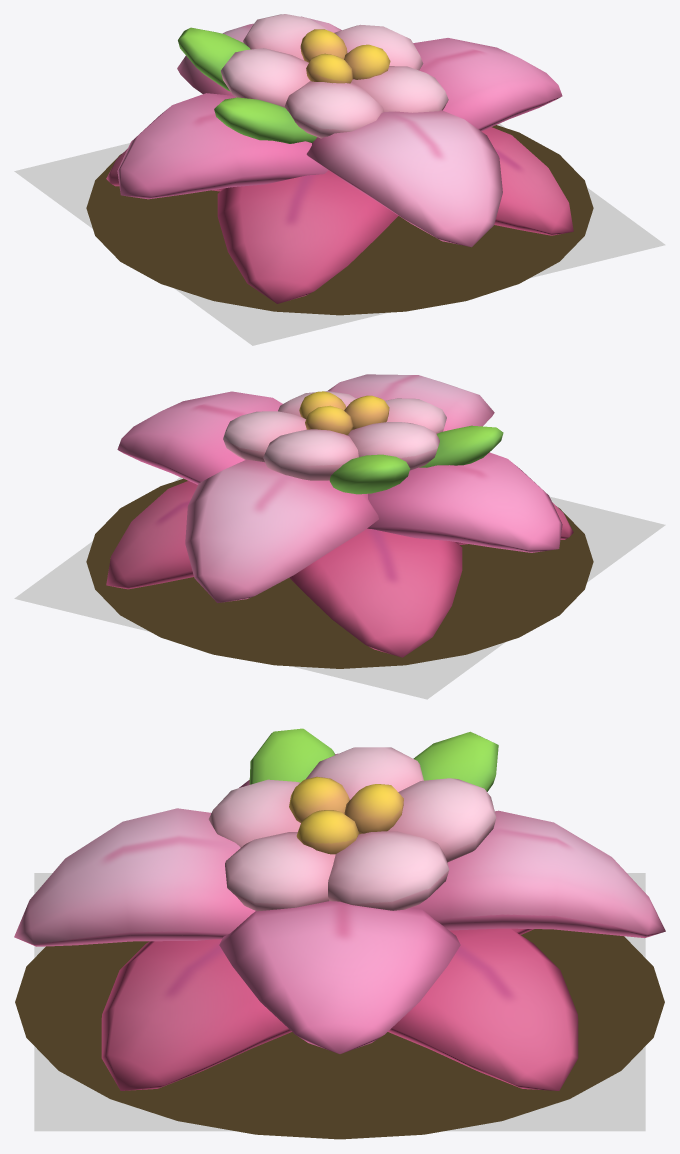
File: JP_FlowerA.fbx
The picture shows the model from 3 angles, top to bottom: view 1: azimuth 30°, elevation 25°; view 2: azimuth 150°, elevation 25°; view 3: azimuth 270°, elevation 25°; orthographic projection. The views are drawn at different scales.
Visible parts, largest first — view 1: polySurface2, Shadow, FlowerA_Grid; view 2: polySurface2, Shadow, FlowerA_Grid; view 3: polySurface2, Shadow, FlowerA_Grid.
Boxes of the visible parts, <box> form: polySurface2: <box>106,14,573,303</box>; Shadow: <box>86,125,593,315</box>; FlowerA_Grid: <box>14,123,665,345</box>; polySurface2: <box>106,374,573,657</box>; Shadow: <box>86,478,593,668</box>; FlowerA_Grid: <box>14,477,665,699</box>; polySurface2: <box>14,728,665,1090</box>; Shadow: <box>15,929,664,1139</box>; FlowerA_Grid: <box>34,873,645,1131</box>.
Bounding box in the file's own units: 1.06 × 0.3845 × 1.07.
